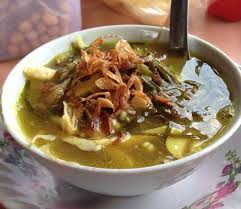soto: (7, 13, 241, 184)
